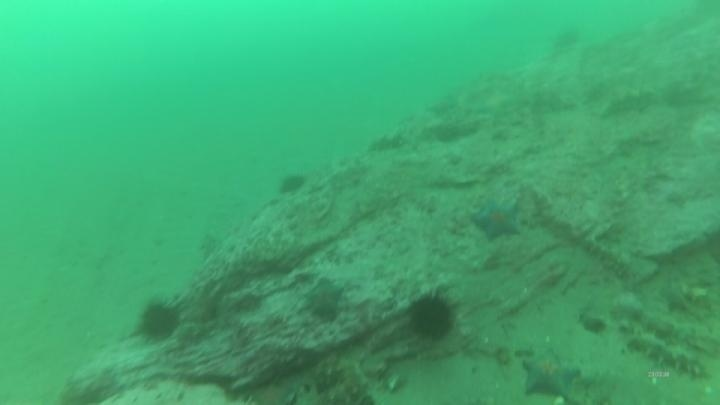echinus: (404, 288, 459, 345), (135, 297, 183, 344), (550, 25, 583, 54), (277, 171, 308, 197)
holothurian: (623, 328, 711, 381)
starfish: (518, 347, 582, 402), (469, 195, 525, 243), (302, 276, 348, 322)
